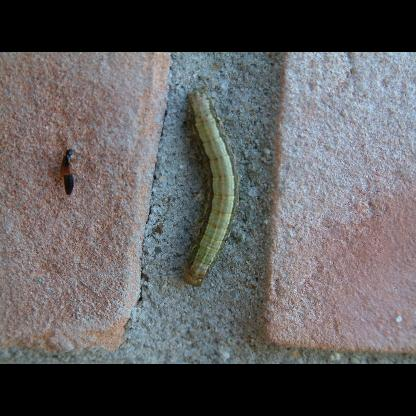Fall Armyworm Larvae: (180, 85, 244, 289)
